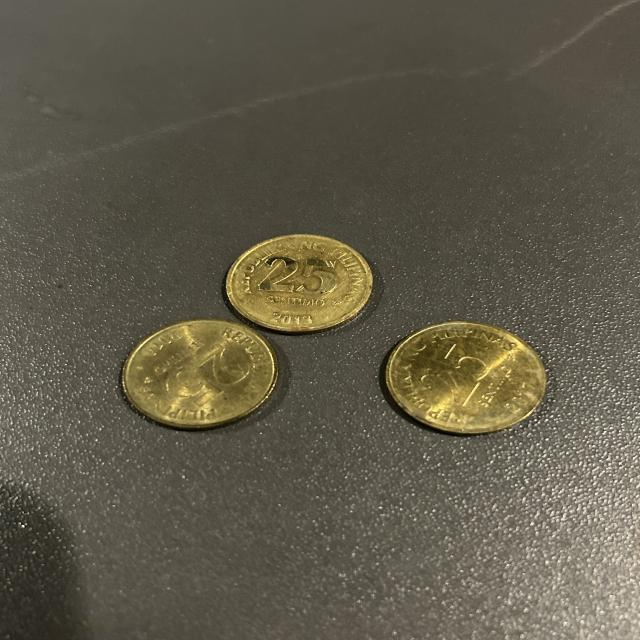25Cent_Old_Front: (237, 252, 369, 314)
